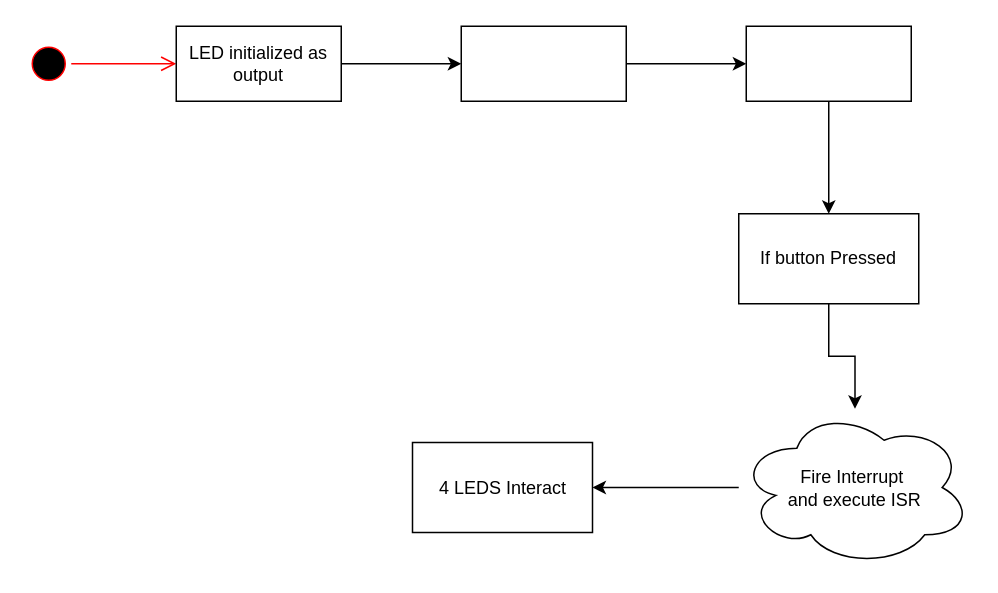
Some shapes in this 998 by 593 pixel diagram are drawn without their labels. The shapes that lost their labels are listed below. From the top down, each one's centre as x and y in pixels, then its label:
At (x=543, y=63): "Button initialized as Input & pull-up".
At (x=828, y=63): "Initialize Interrupt to sense falling edge".
